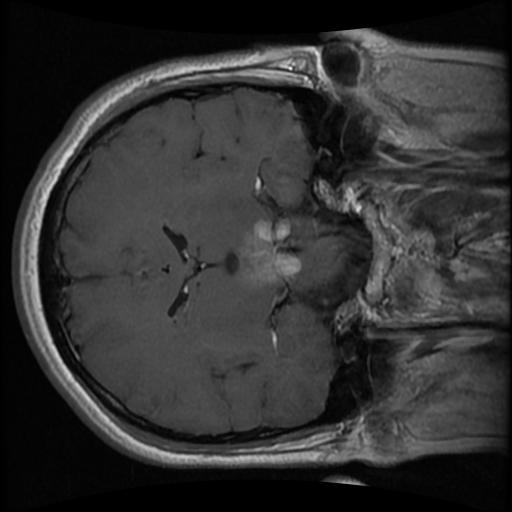pituitary tumour: (237, 217, 299, 285)
